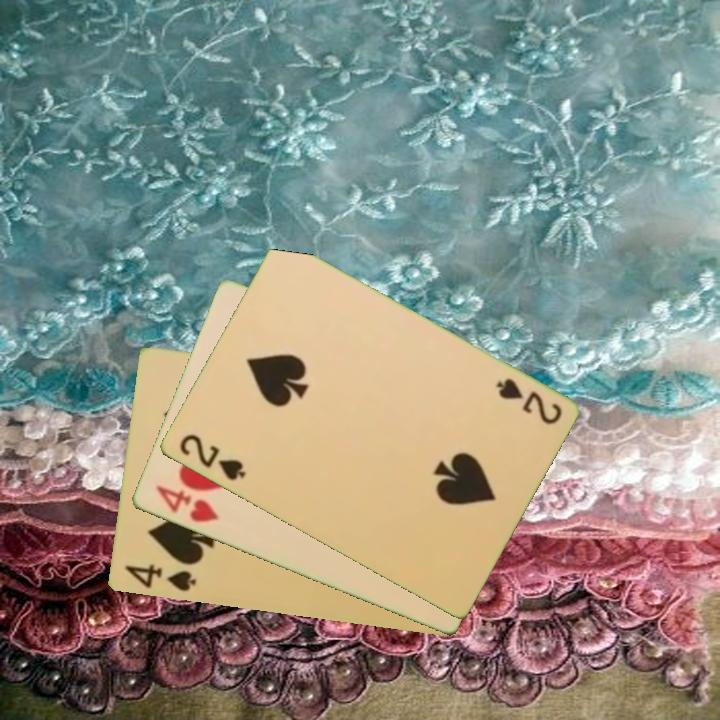2s: (175, 430, 248, 484), (492, 374, 564, 428)
4h: (151, 482, 222, 526)
4s: (121, 561, 199, 595)
